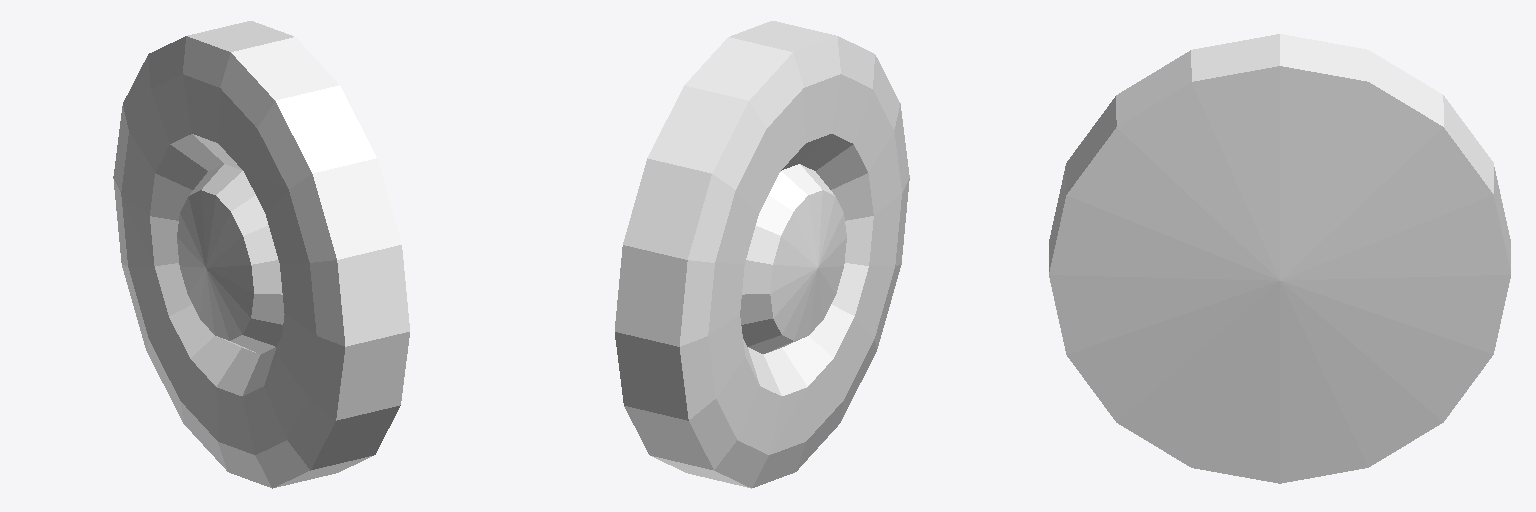
Rendered from wheel.obj.
3 views of the same model, side by side, from view 1: azimuth 30°, elevation 25°; view 2: azimuth 150°, elevation 25°; view 3: azimuth 270°, elevation 25° (orthographic).
Parts seen in each view (by area): view 1: moskvitch; view 2: moskvitch; view 3: moskvitch.
Boxes of the visible parts, x1,y1,x2,y2 form: moskvitch: [113, 21, 409, 488]; moskvitch: [615, 21, 909, 488]; moskvitch: [1049, 34, 1510, 483].
Size of the model in its own units: 1.44 by 5.77 by 5.77.